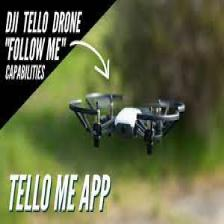drone: (69, 93, 185, 149)
